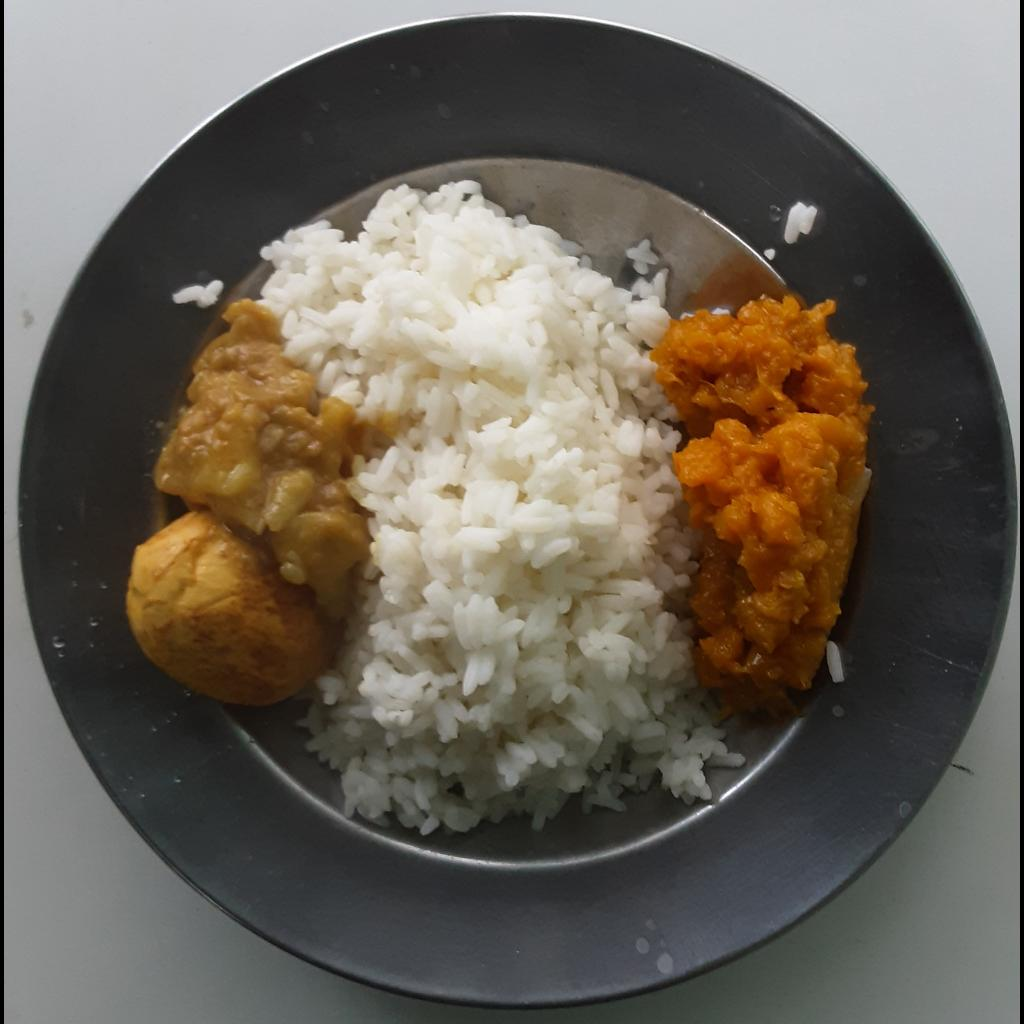egg-boiled: (121, 515, 326, 706)
kumra-vaji: (652, 291, 874, 719)
potato: (154, 299, 432, 630)
rice: (255, 176, 742, 834)
